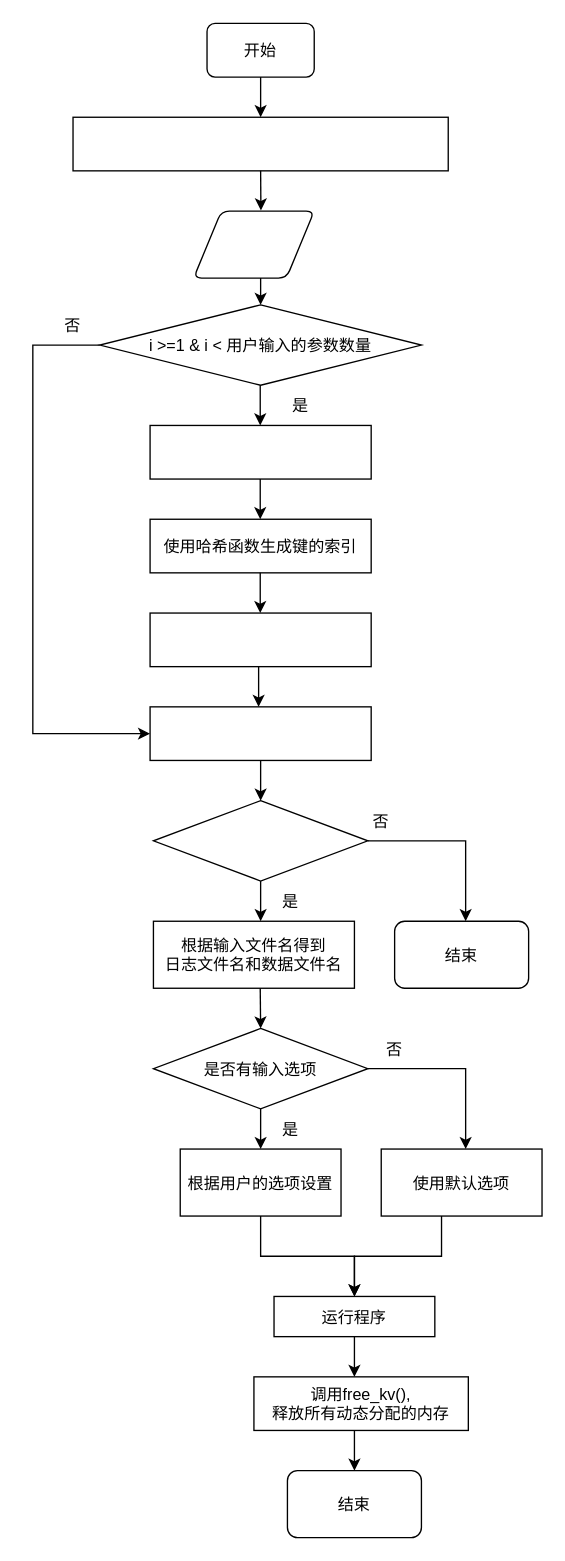
Image size: 565x1561. Some labels were removed from this diagram. Each missing label, with the box of its shape:
分配内存并调用插入函数 插入新键值对: (149, 612, 371, 667)
初始化 KeyValue 结构体数组 kv ，用于存储键值对: (72, 116, 448, 171)
提取选项的键名和对应的值: (149, 706, 371, 760)
是否有输入文件: (152, 799, 368, 881)
检查是否为选项: (149, 424, 371, 479)
输入: (192, 210, 314, 278)
